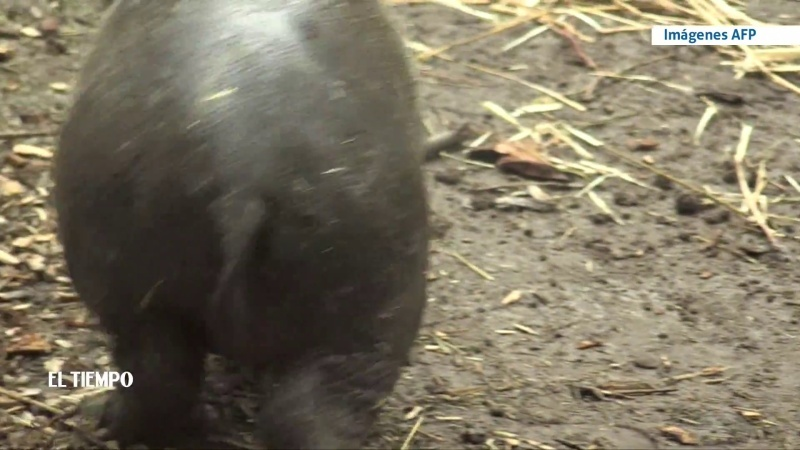hipopotamo: (40, 1, 445, 450)
